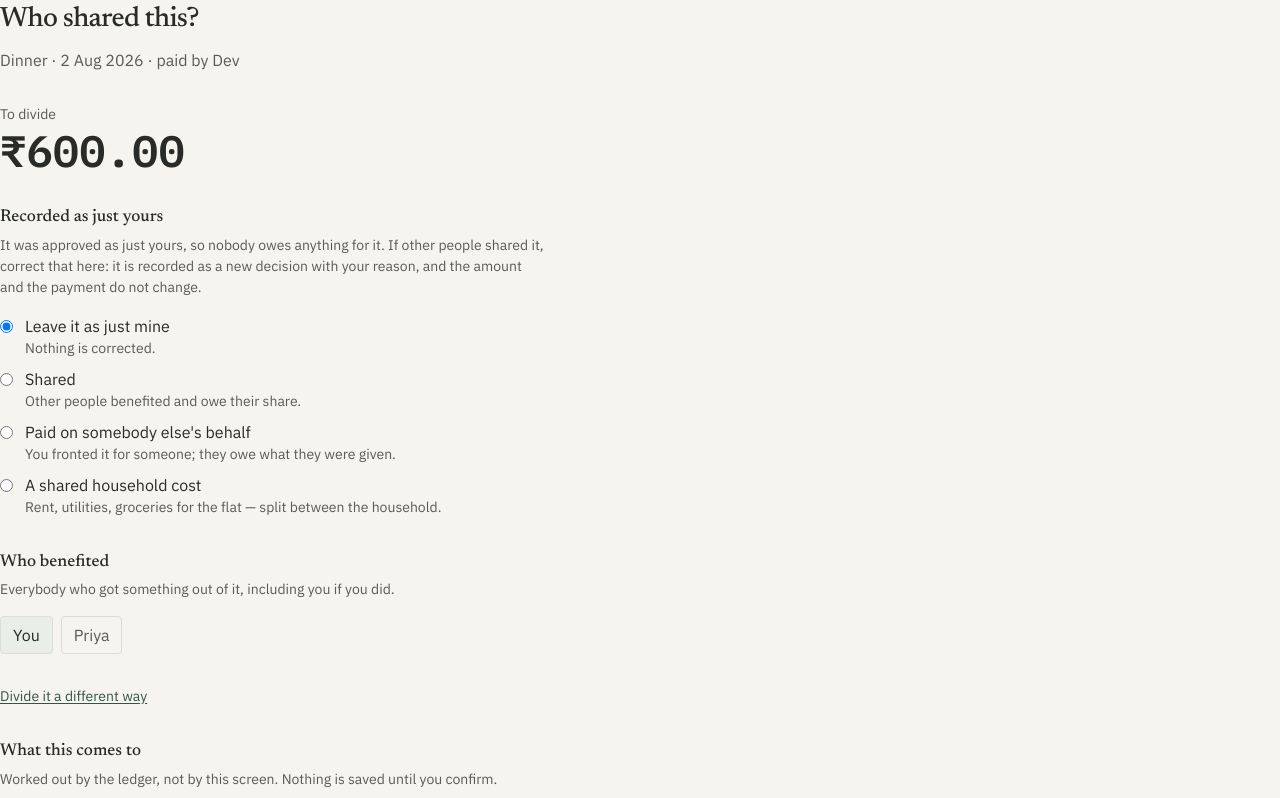
Test case: correcting an expense approved as just yours › when another tab changed it some other way, says what the ledger holds and applies nothing
Expected: the heading "Recorded as just yours" is shown, left=0, top=209, right=163, bottom=226
Click the radio button labelled "Shared Other people benefited and owe their share.": (6, 379) left=0, top=372, right=13, bottom=386
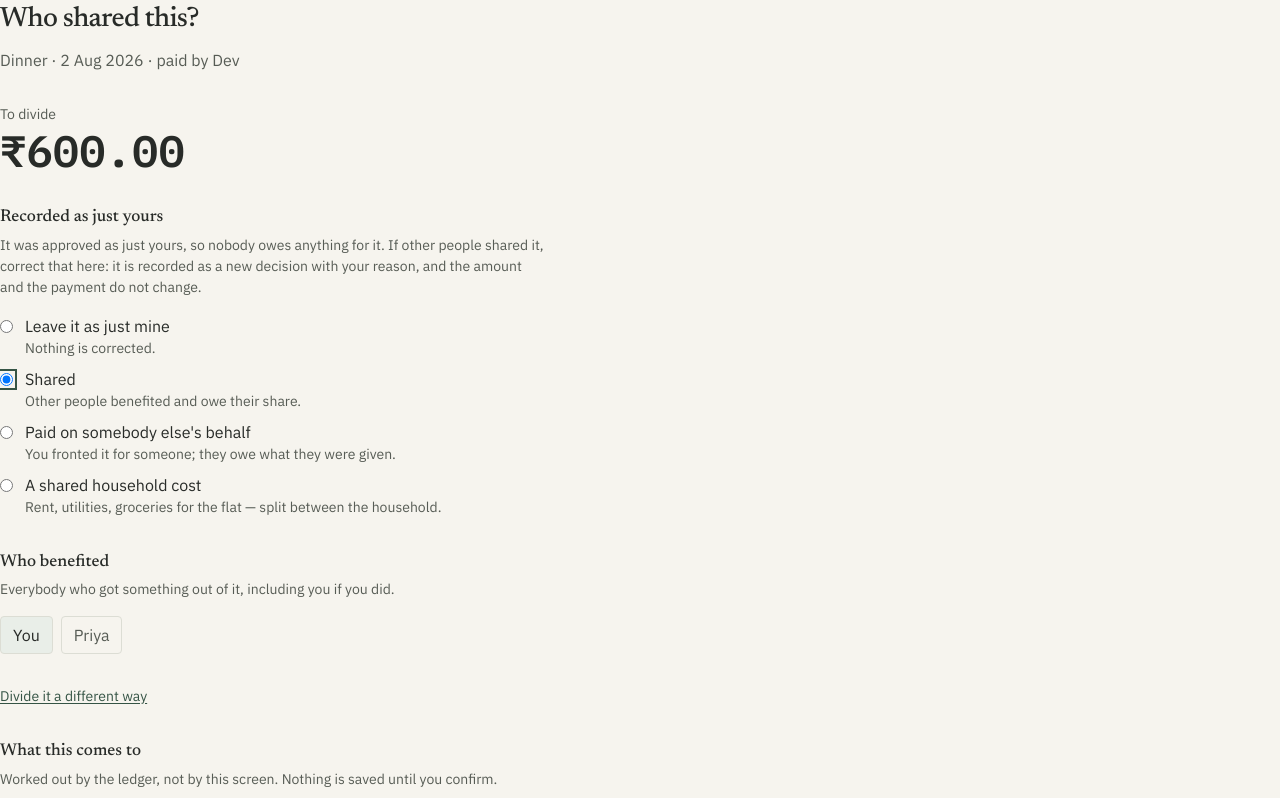
Click the button "Priya": (92, 635) left=61, top=616, right=122, bottom=654
(page scrolled)
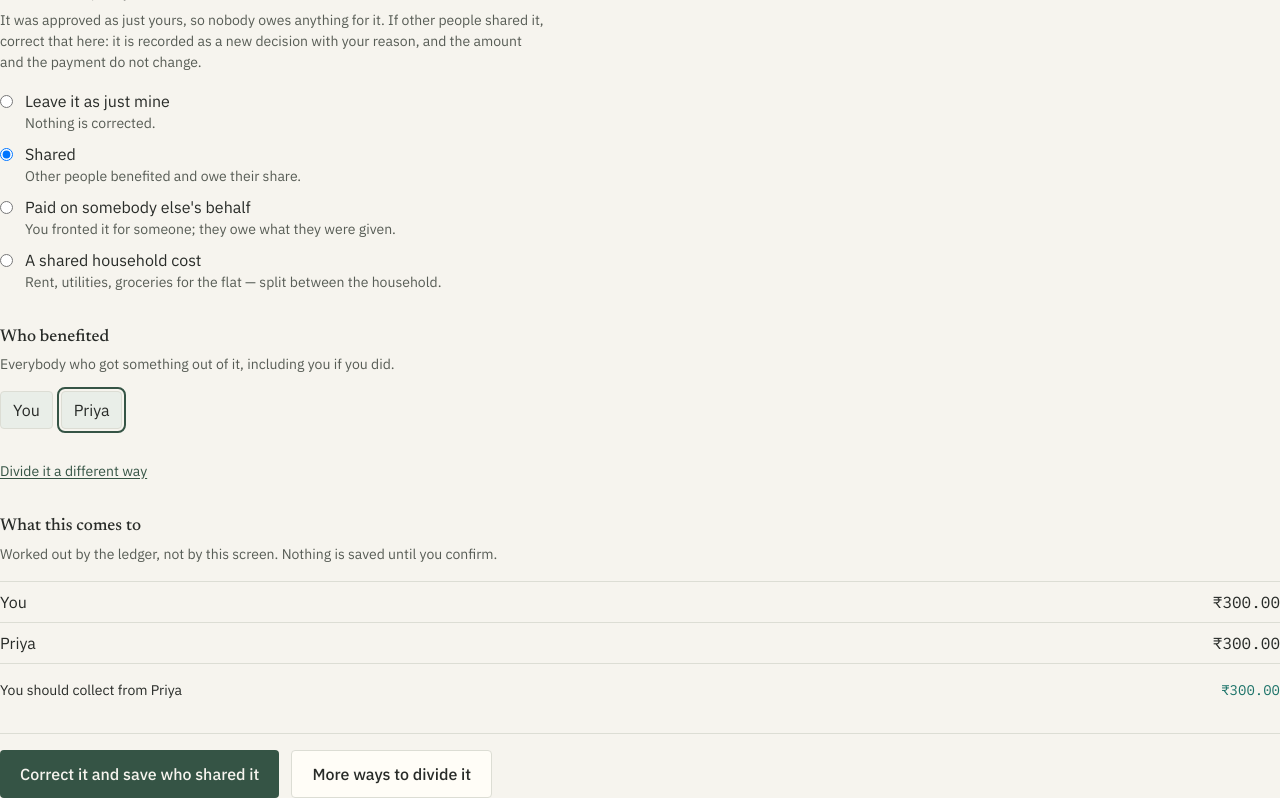
Expected: the text "You should collect from Priya" is shown, left=0, top=680, right=182, bottom=700
Click the button "Correct it and save who shared it": (140, 774) left=0, top=750, right=280, bottom=797
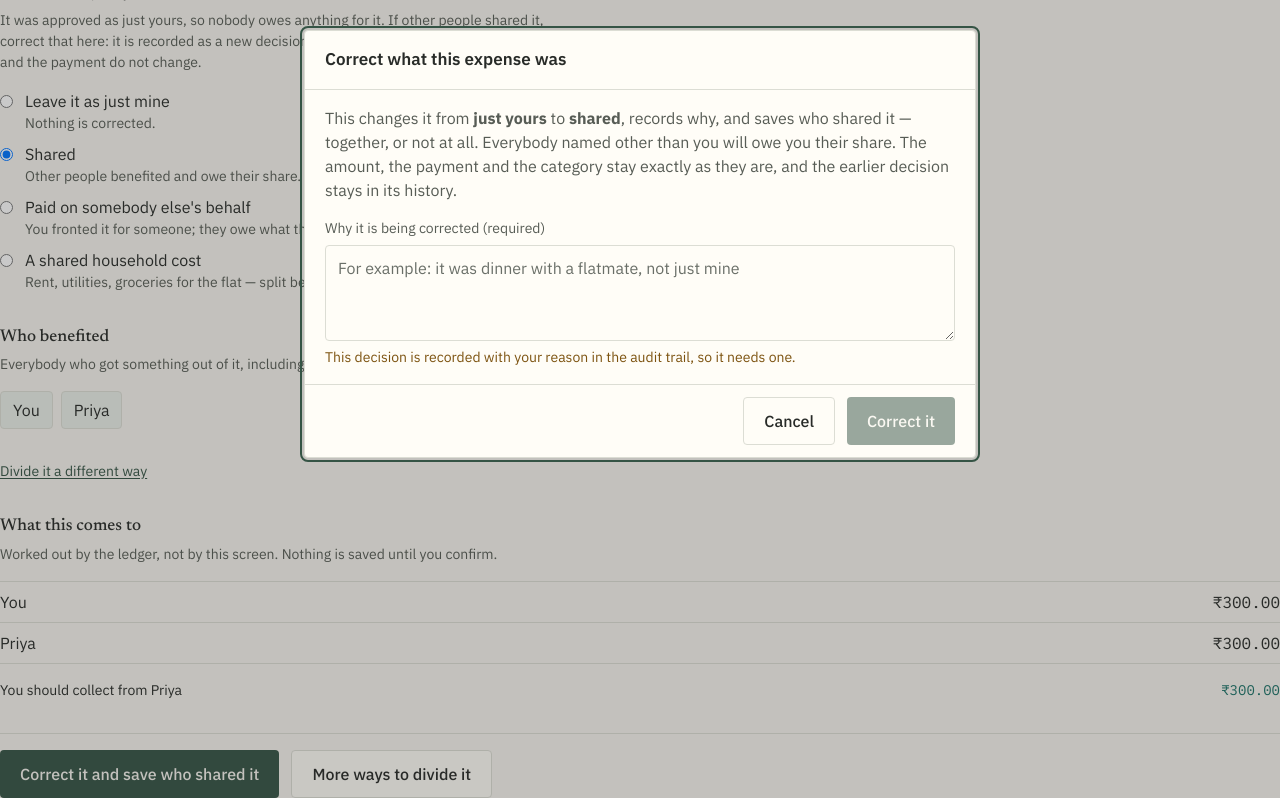
In the text box labelled "Why it is being corrected (required)": (640, 292) left=325, top=244, right=955, bottom=340, type "Dinner with Priya"
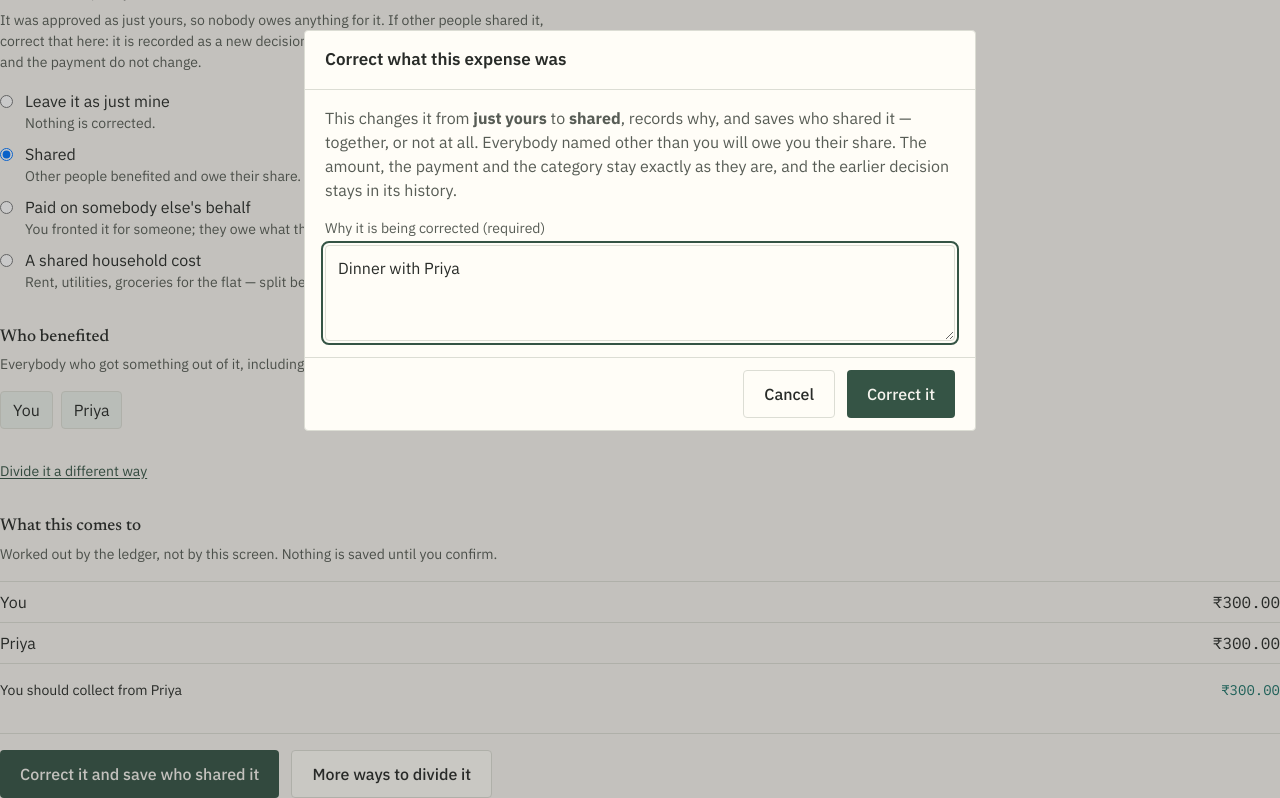
Click the button "Correct it": (901, 394) left=847, top=370, right=955, bottom=418
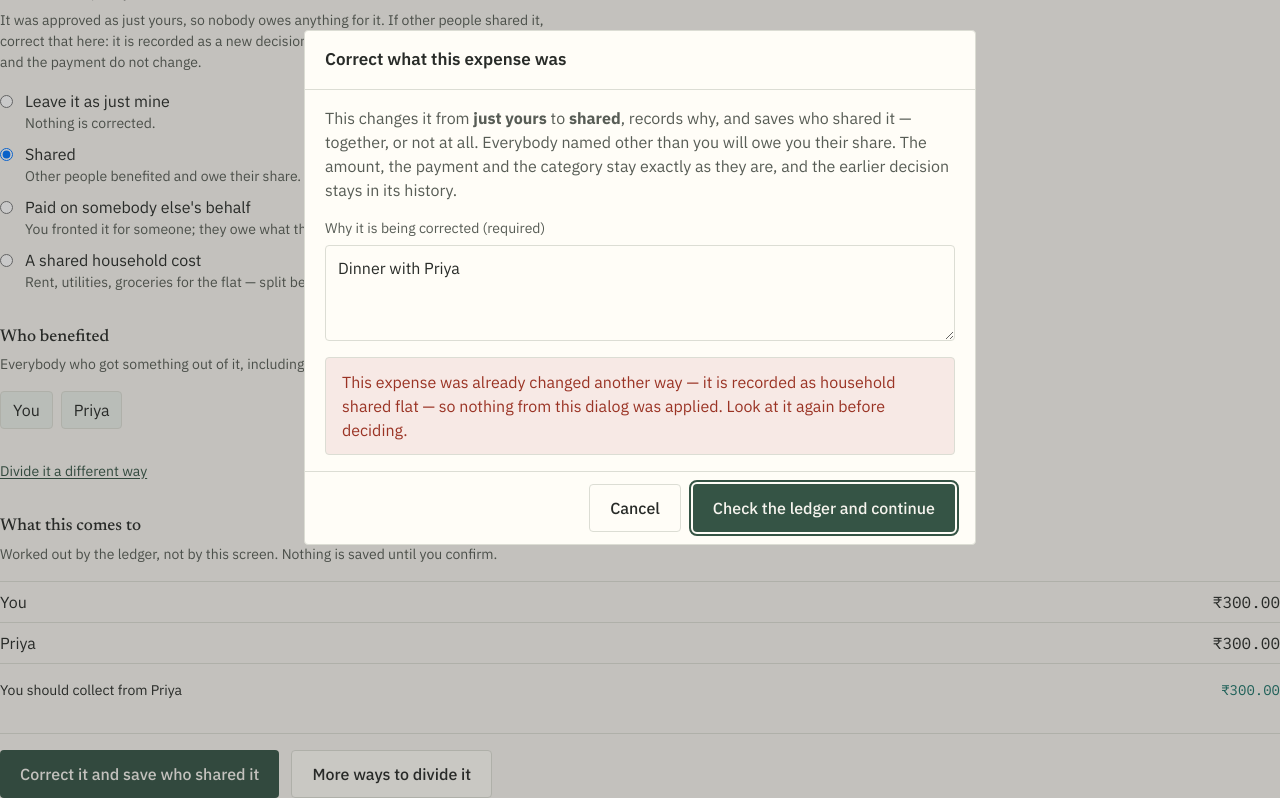
Expected: the text "already changed another way — it is recorded as household shared flat" is shown, left=342, top=372, right=896, bottom=440
